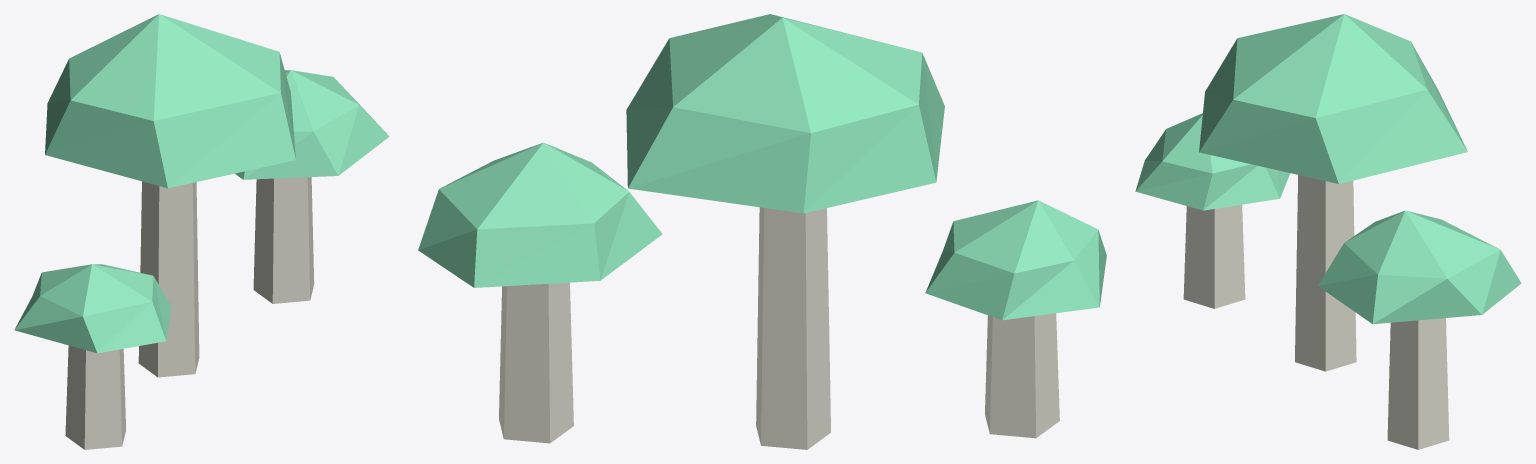
Rendered from glow_mushroom.obj.
3 views of the same model, side by side, from view 1: azimuth 30°, elevation 25°; view 2: azimuth 150°, elevation 25°; view 3: azimuth 270°, elevation 25° (orthographic). The views are drawn at different scales.
Visible parts, largest first — view 1: glow_mushroom; view 2: glow_mushroom; view 3: glow_mushroom.
Part boxes in pixels (box(x1,y1,x2,y2)): glow_mushroom: box(14, 14, 389, 449); glow_mushroom: box(418, 14, 1106, 449); glow_mushroom: box(1135, 14, 1521, 449).
Bounding box in the file's own units: 0.5519 × 0.408 × 0.4168.
